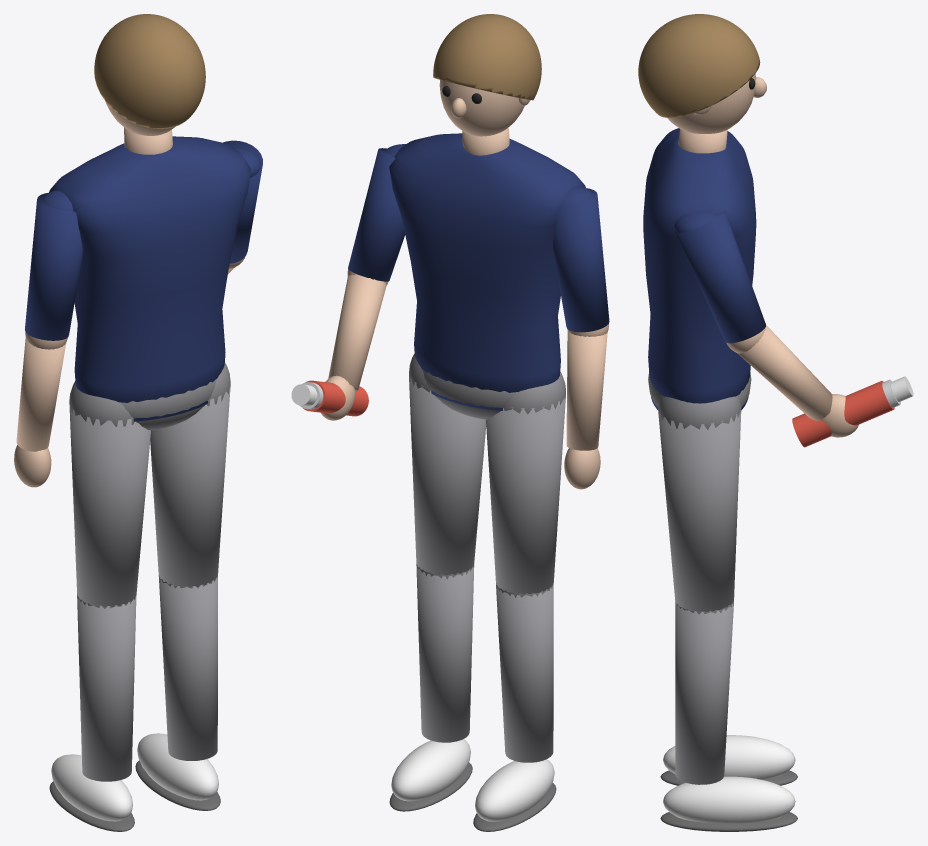
Rendered from human_4.glb.
The picture shows the model from 3 angles, left to right: view 1: azimuth 30°, elevation 25°; view 2: azimuth 150°, elevation 25°; view 3: azimuth 270°, elevation 25°; orthographic projection. The views are drawn at different scales.
Visible parts, largest first — view 1: Body, Leg_L, Leg_R, Arm_L, Arm_R; view 2: Body, Leg_L, Leg_R, Arm_L, Arm_R, Spray_Can; view 3: Body, Leg_R, Arm_R, Leg_L, Spray_Can.
Part boxes in pixels (x1,y1,x2,y2): Body: (49, 14, 250, 430); Leg_L: (49, 381, 150, 831); Leg_R: (135, 363, 230, 810); Arm_L: (14, 190, 82, 487); Arm_R: (223, 140, 262, 273); Body: (389, 14, 585, 419); Leg_L: (473, 372, 565, 831); Leg_R: (389, 353, 486, 811); Arm_L: (553, 186, 609, 489); Arm_R: (321, 144, 405, 420); Spray_Can: (291, 380, 368, 416); Body: (638, 14, 766, 409); Leg_R: (658, 396, 797, 831); Arm_R: (674, 210, 858, 437); Leg_L: (660, 735, 797, 785); Spray_Can: (792, 376, 913, 447).
Bounding box in the file's own units: 0.5595 × 1.76 × 0.56.
